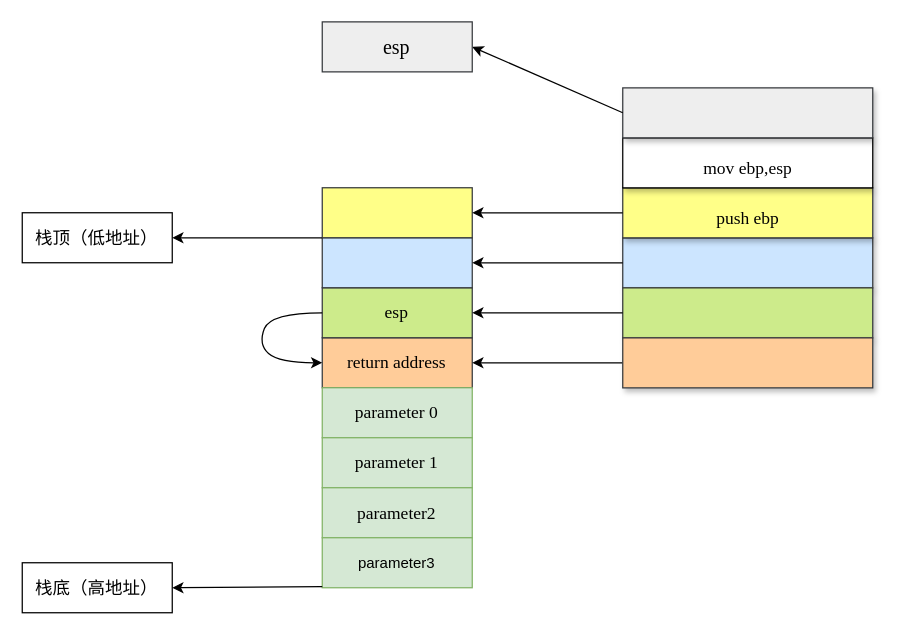
Some shapes in this 903 by 635 pixel diagram are drawn without their labels. Here are the shapes that lost their labels. From the top down, the centre of each, then its label:
the point at 748,114: sub esp,256
the point at 396,212: ebp
the point at 748,264: sub esp,4
the point at 748,314: push esp
the point at 748,364: 函数入口 esp
